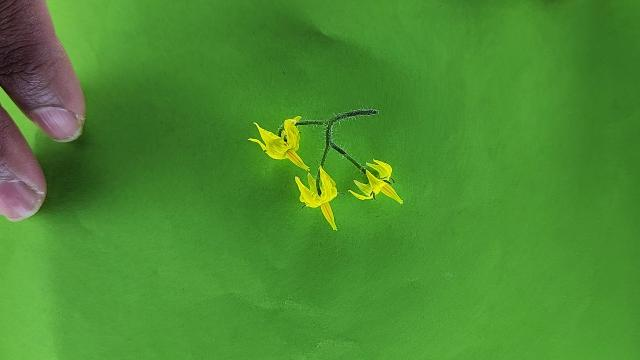Anthesis: (247, 116, 310, 173), (295, 164, 341, 231), (346, 157, 404, 205)
